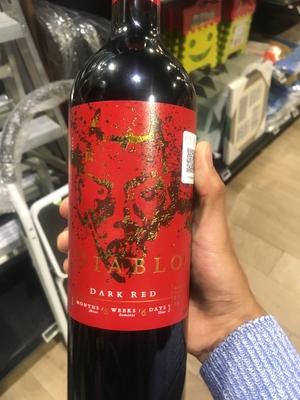diablo dark red: (43, 29, 225, 394)
